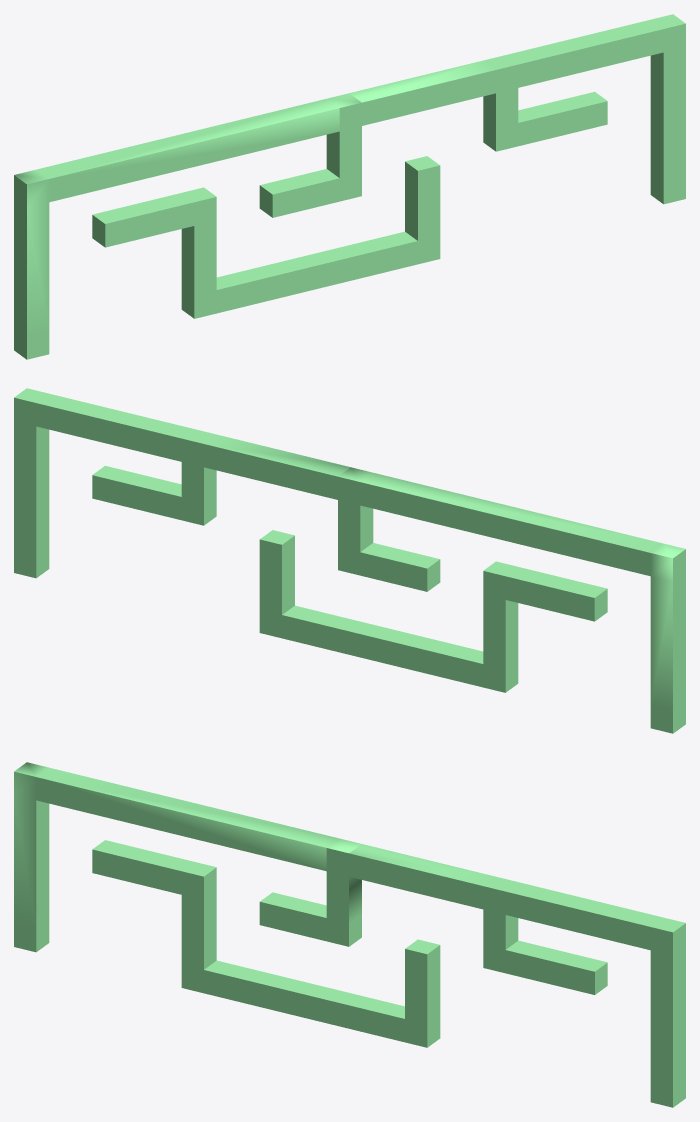
The model's file is maze.fbx.
3 renders of one model, top to bottom at view 1: azimuth 30°, elevation 25°; view 2: azimuth 150°, elevation 25°; view 3: azimuth 330°, elevation 25°, orthographic.
Parts seen in each view (by area): view 1: maze; view 2: maze; view 3: maze.
Boxes of the visible parts, x1,y1,x2,y2 form: maze: [14, 14, 685, 359]; maze: [14, 388, 685, 733]; maze: [14, 762, 685, 1107].
Bounding box in the file's own units: 11.8 × 3 × 0.3998.
